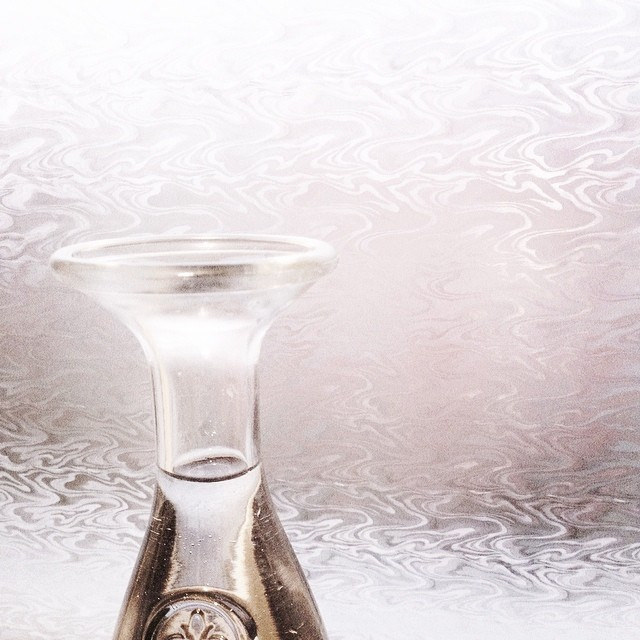glass of water: (36, 214, 359, 640)
